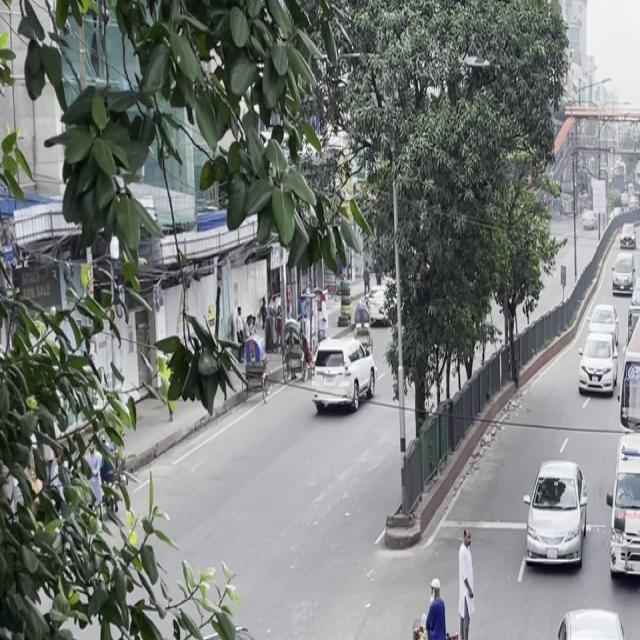bus: (616, 302, 640, 423)
car: (519, 448, 590, 585), (306, 333, 380, 422), (604, 445, 640, 599), (541, 594, 640, 640), (342, 620, 539, 640), (577, 322, 618, 402), (609, 250, 636, 298)
